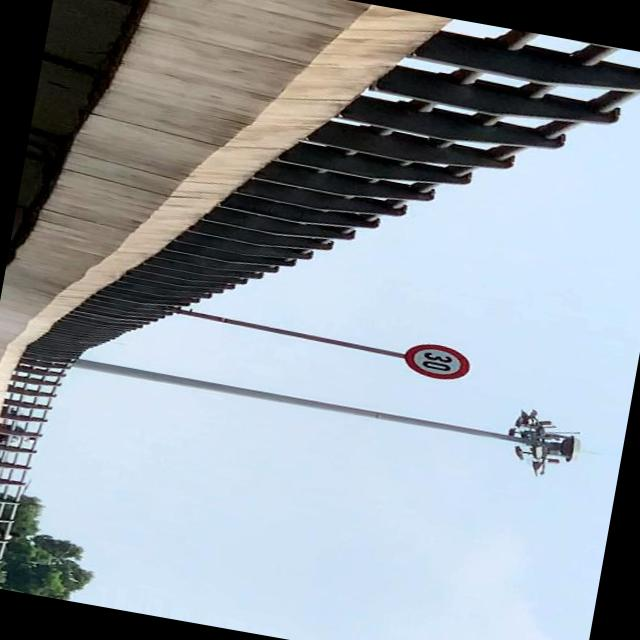P-127: (402, 340, 472, 382)
